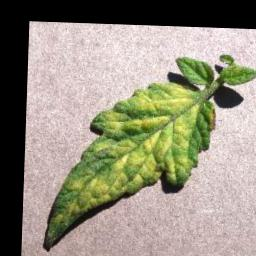Leaf_Mold: (42, 78, 201, 255), (205, 101, 217, 133)
